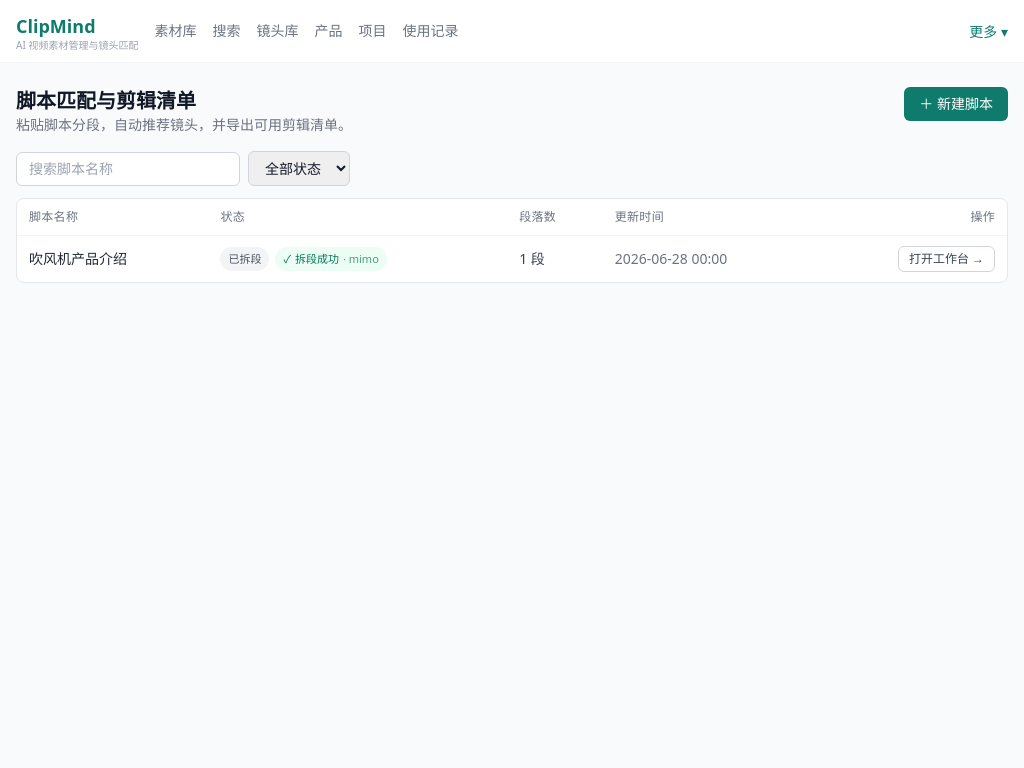
ScriptListView › 空名/空脚本时创建按钮禁用
创建表单已移入「新建脚本」Modal：先打开再断言
Click the button with test id "script-new-btn": (956, 104) 904,87 -> 1008,121
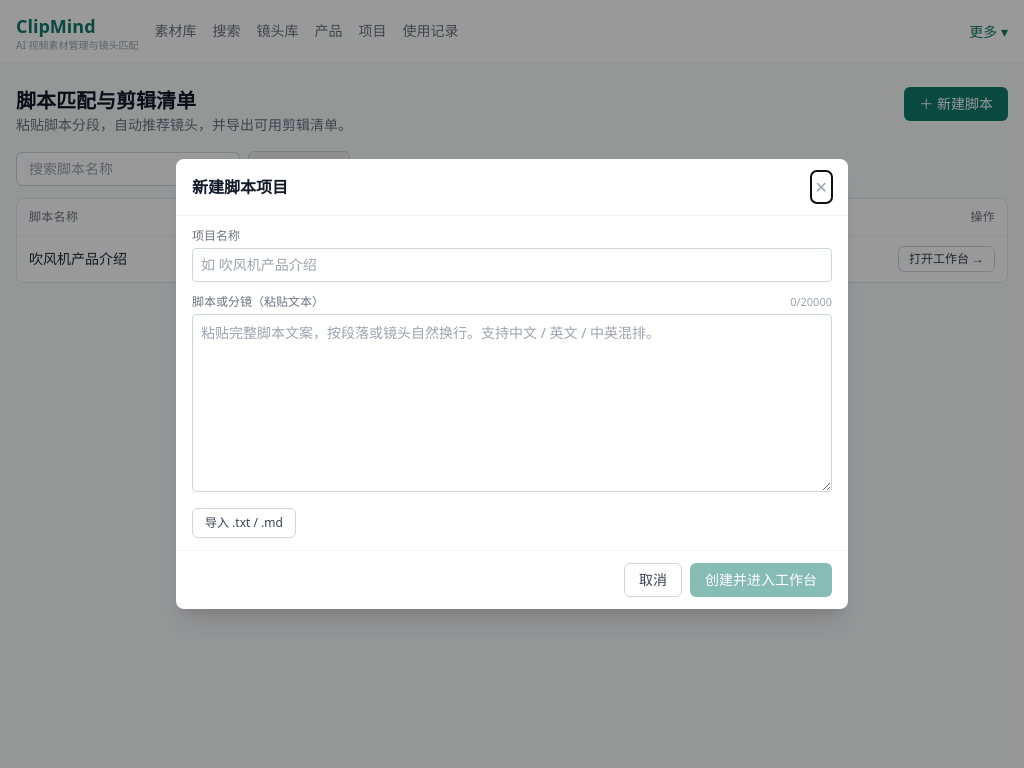
Expected: the button with test id "script-create" is disabled, 690,563 -> 832,597
